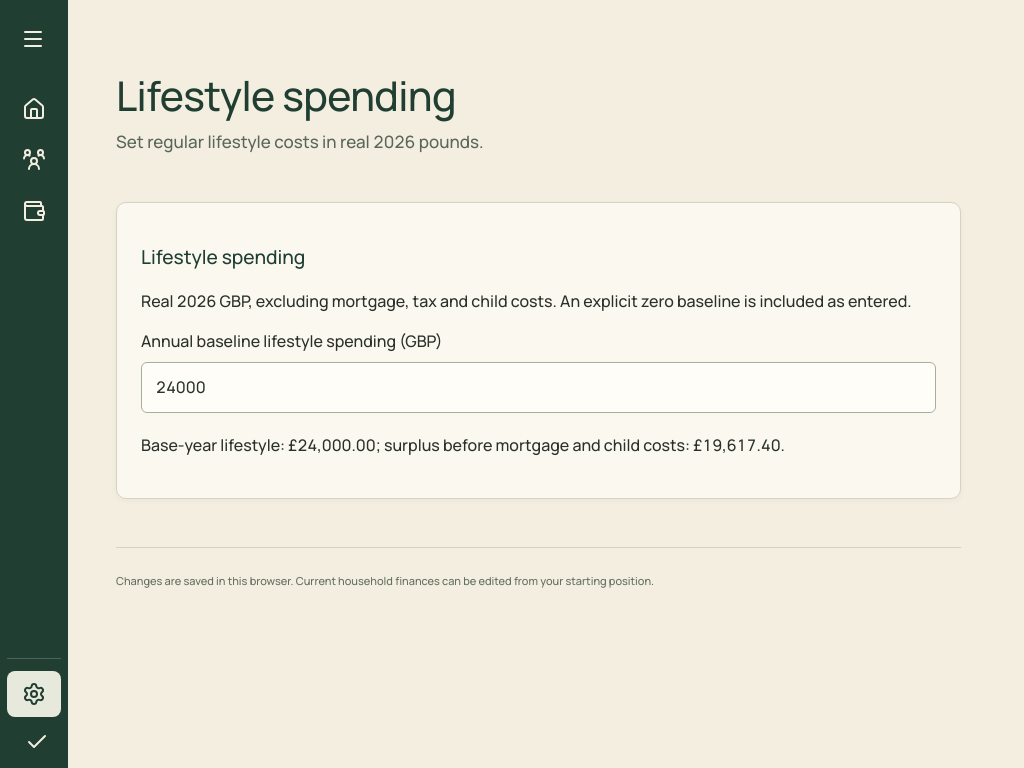
updates lifestyle spending on its own settings page
The width and height of the screenshot is (1024, 768).
Replace the text in the field labelled "Annual baseline lifestyle spending (GBP)" with "30000" at (538, 388), box x1=141 y1=362 x2=936 y2=413
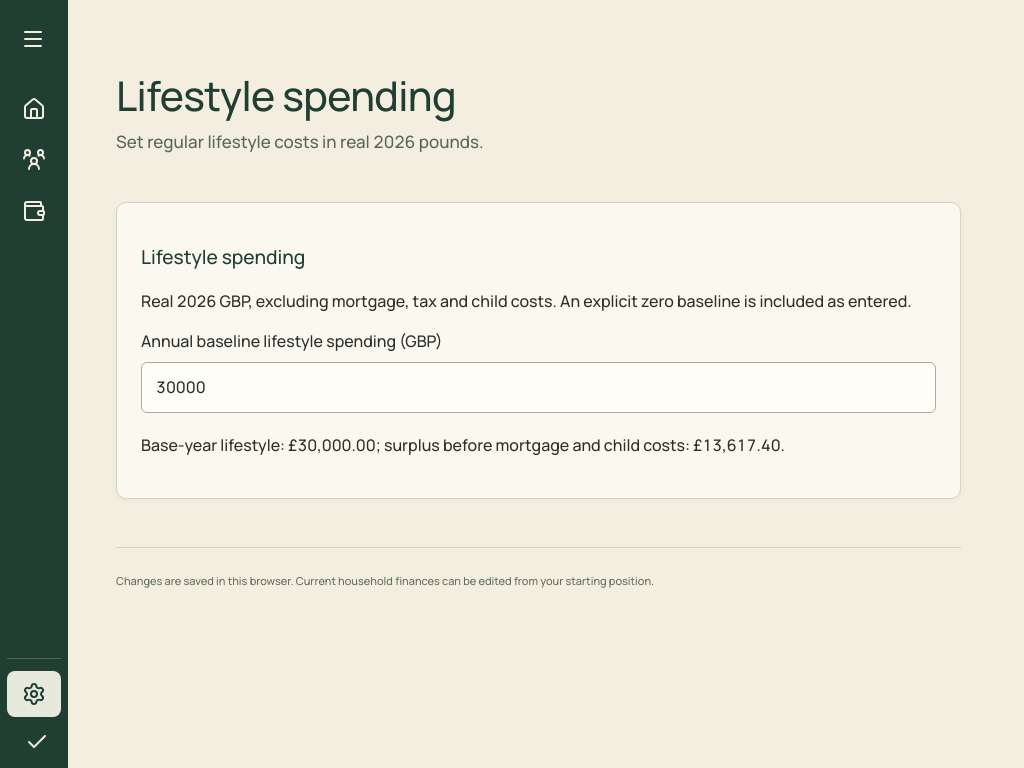
Expected: the text "Base-year lifestyle: £30,000.00; surplus" is shown, x1=141 y1=434 x2=785 y2=456
